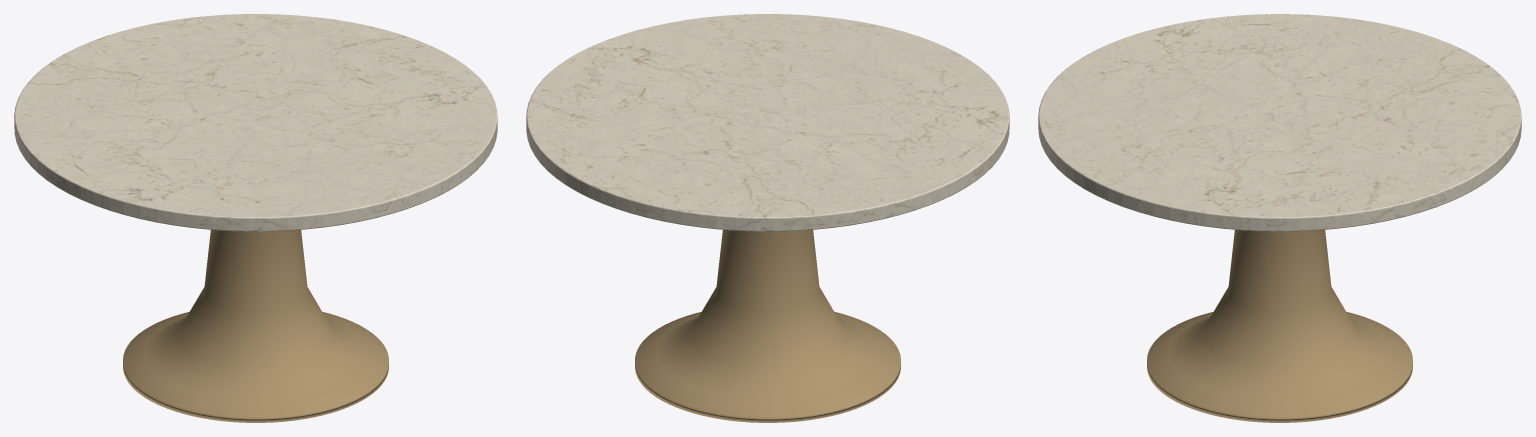
File: dining-round-table.glb
3 renders of one model, left to right at view 1: azimuth 30°, elevation 25°; view 2: azimuth 150°, elevation 25°; view 3: azimuth 270°, elevation 25°, orthographic.
Visible parts, largest first — view 1: stone_surfaces, bronze_surfaces; view 2: stone_surfaces, bronze_surfaces; view 3: stone_surfaces, bronze_surfaces.
Part boxes in pixels (<box>): stone_surfaces: <box>14,14,497,231</box>; bronze_surfaces: <box>123,230,388,422</box>; stone_surfaces: <box>526,14,1009,231</box>; bronze_surfaces: <box>635,230,900,422</box>; stone_surfaces: <box>1038,14,1521,231</box>; bronze_surfaces: <box>1147,229,1412,422</box>.
Size of the model in its own units: 1.31 by 0.75 by 1.31.
Materials: 2 (1 with a texture image).
